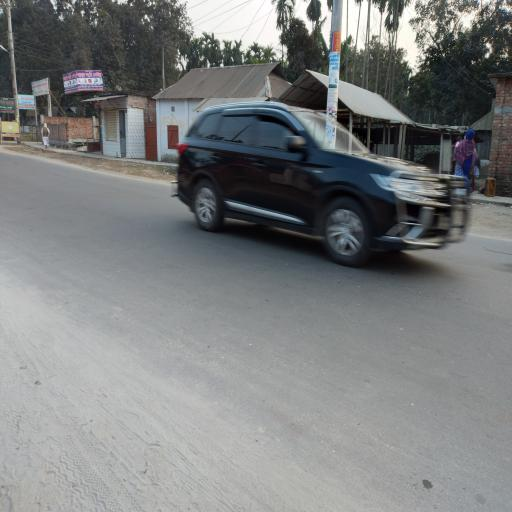car: (168, 101, 480, 273)
